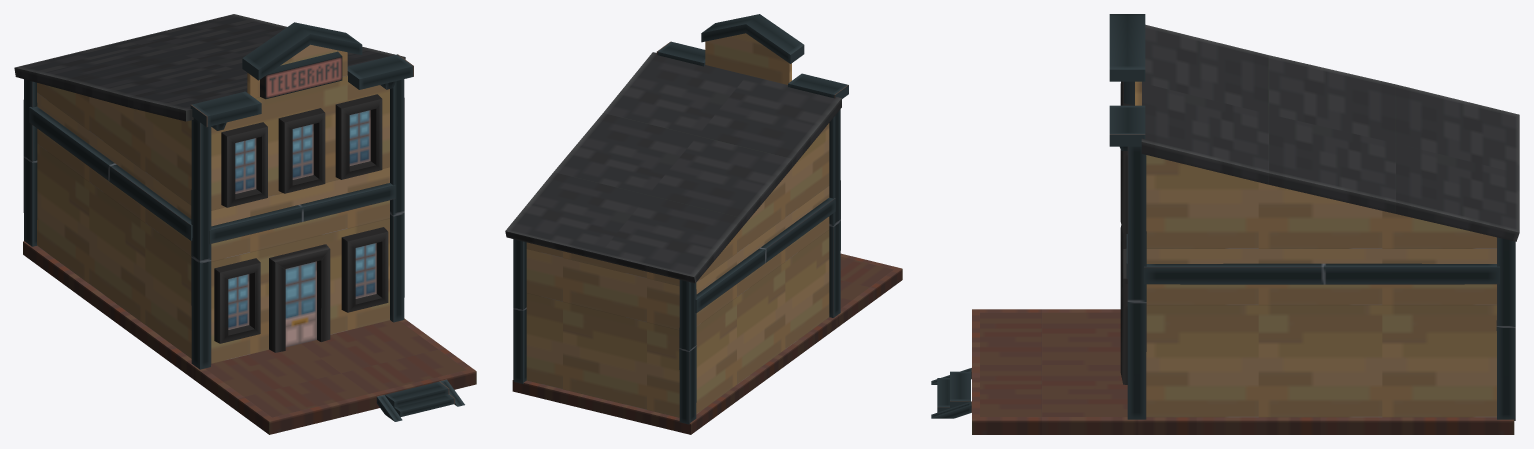
The model's file is house_v008.fbx.
The picture shows the model from 3 angles, left to right: view 1: azimuth 30°, elevation 25°; view 2: azimuth 150°, elevation 25°; view 3: azimuth 270°, elevation 25°; orthographic projection. The views are drawn at different scales.
Parts seen in each view (by area): view 1: house_v008; view 2: house_v008; view 3: house_v008.
Part boxes in pixels (x1,y1,x2,y2): house_v008: (14, 14, 476, 434); house_v008: (505, 14, 902, 434); house_v008: (931, 14, 1519, 434).
Size of the model in its own units: 451 by 647 by 951.
